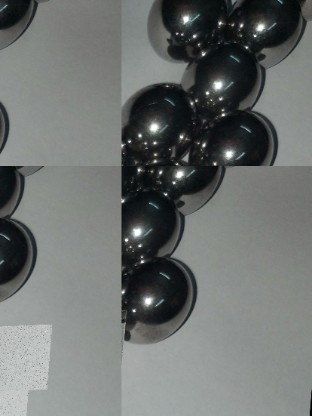ironball: (121, 260, 206, 350), (121, 80, 202, 161), (140, 0, 229, 61), (194, 105, 279, 165), (188, 50, 269, 112), (224, 0, 301, 63), (121, 200, 185, 265), (0, 326, 57, 393), (149, 166, 228, 214), (0, 218, 38, 303), (0, 0, 35, 60), (0, 165, 31, 218), (0, 386, 34, 415)
